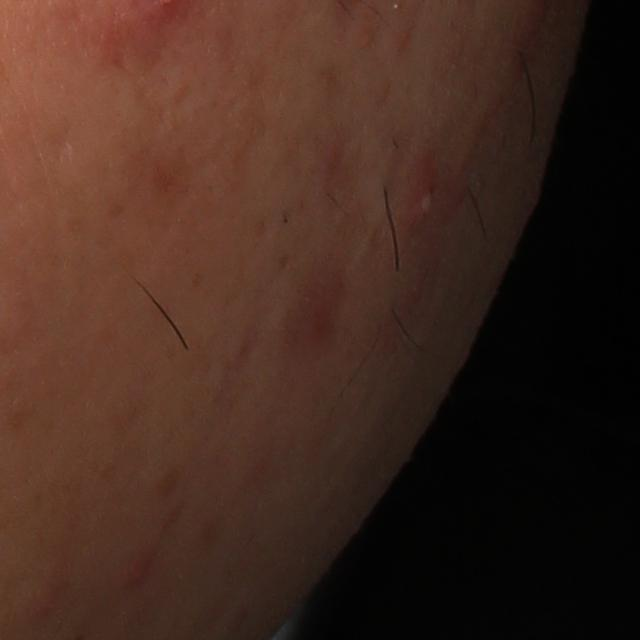papule: (121, 548, 160, 585)
pustule: (402, 162, 440, 234)
